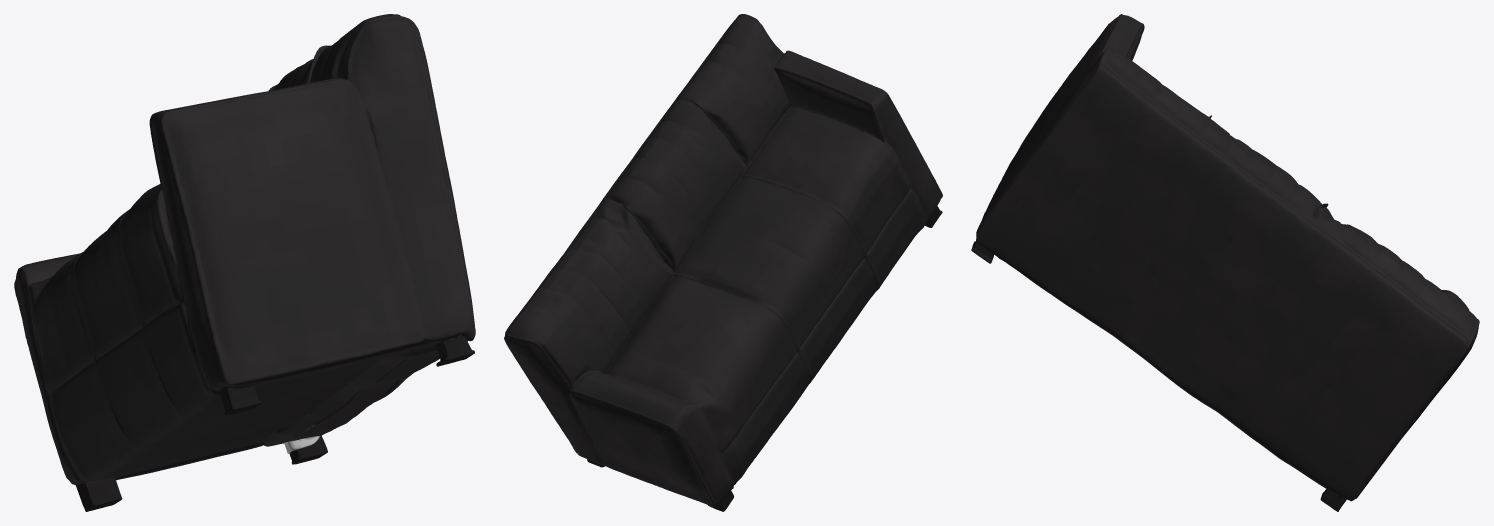
Rendered from pixal3d.glb.
3 views of the same model, side by side, from view 1: azimuth 30°, elevation 25°; view 2: azimuth 150°, elevation 25°; view 3: azimuth 270°, elevation 25° (orthographic). The views are drawn at different scales.
Visible parts, largest first — view 1: world; view 2: world; view 3: world.
Part boxes in pixels (x1,y1,x2,y2): world: (14, 14, 475, 511); world: (504, 14, 942, 511); world: (971, 14, 1479, 511).
Bounding box in the file's own units: 0.5686 × 0.9001 × 0.9483.
Materials: 1 (1 with a texture image).
